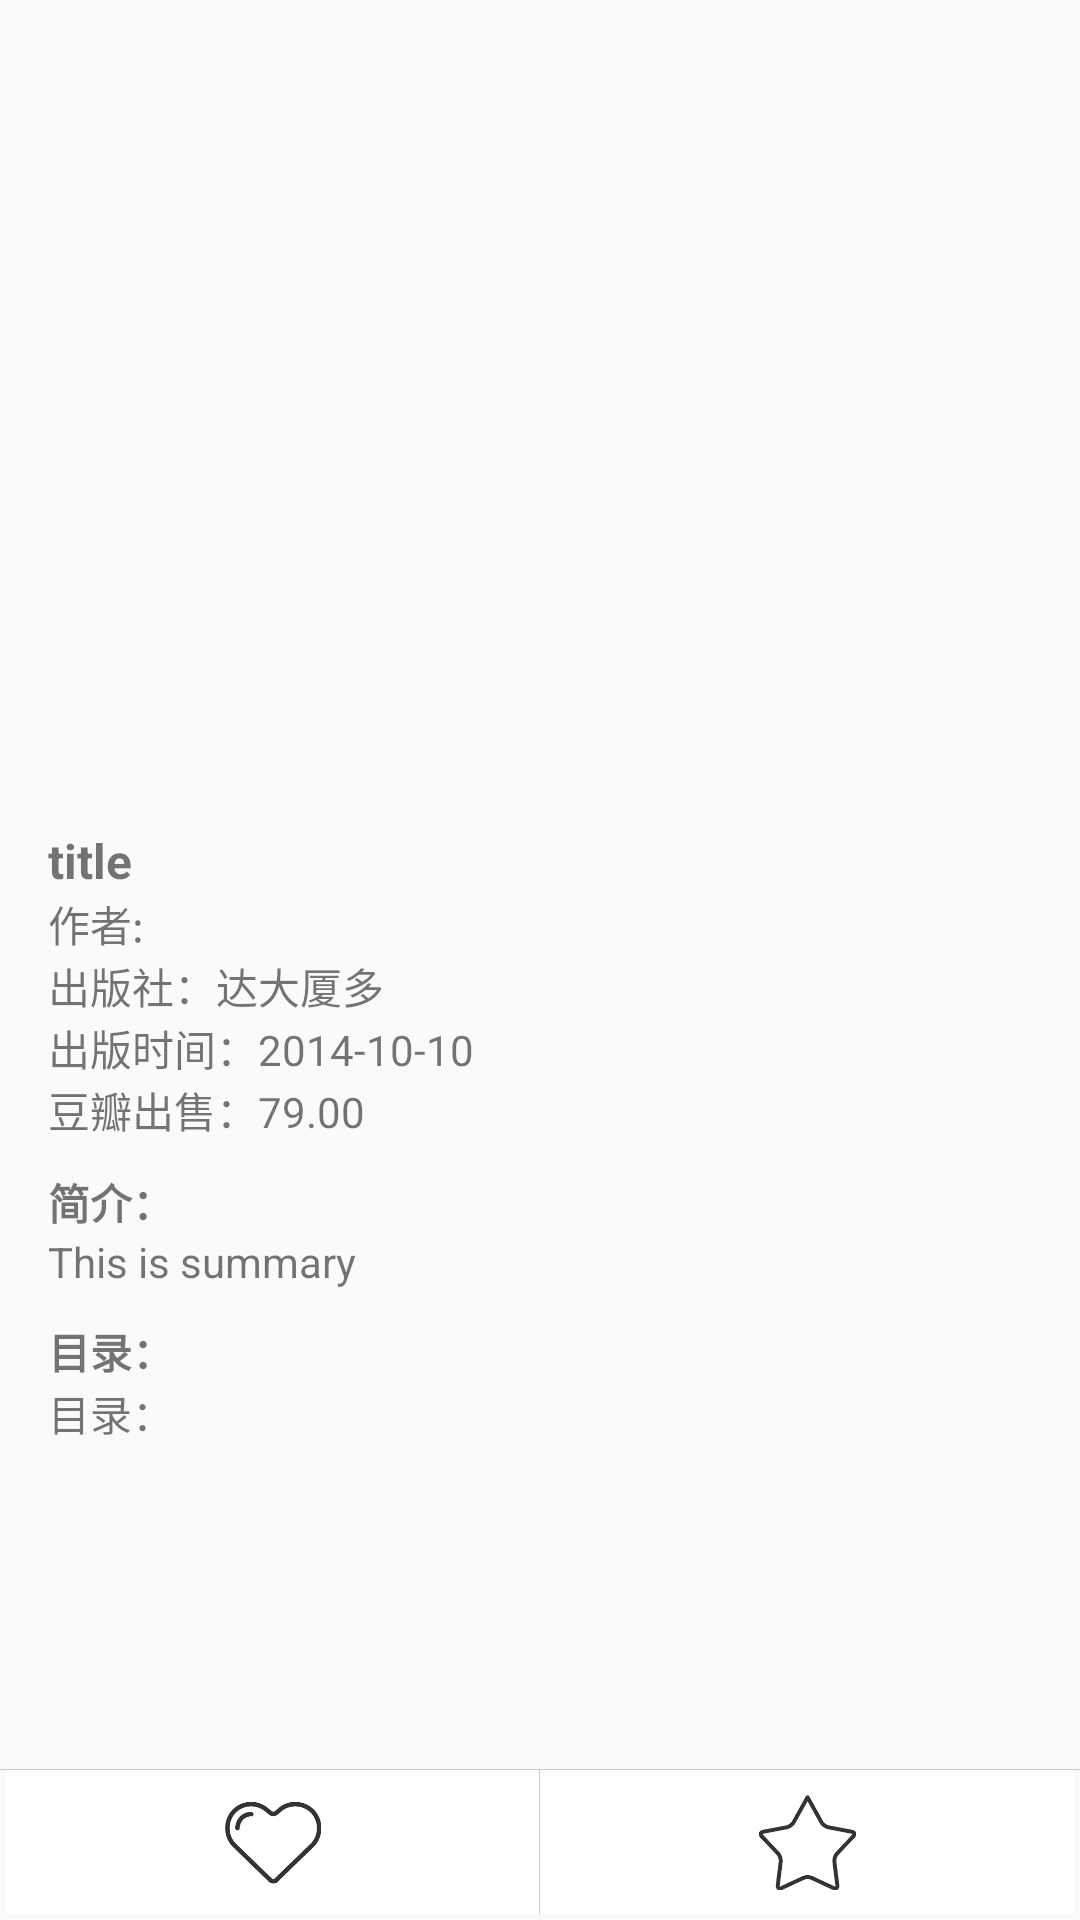

Point at icon controls on the screen. Image size 1080w x 1920h, points as (x,y).
love: (273,1843)
